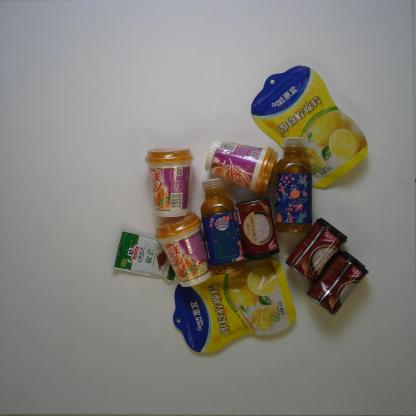Canned Food: (283, 216, 349, 284), (305, 250, 370, 315), (234, 197, 281, 260)
Dried Fruit: (249, 63, 370, 190), (172, 257, 297, 354)
Drink: (198, 176, 247, 275), (271, 136, 313, 234)
Instant Drink: (154, 210, 212, 288), (204, 137, 280, 195), (144, 147, 194, 219)
Seasoner: (112, 228, 178, 284)
